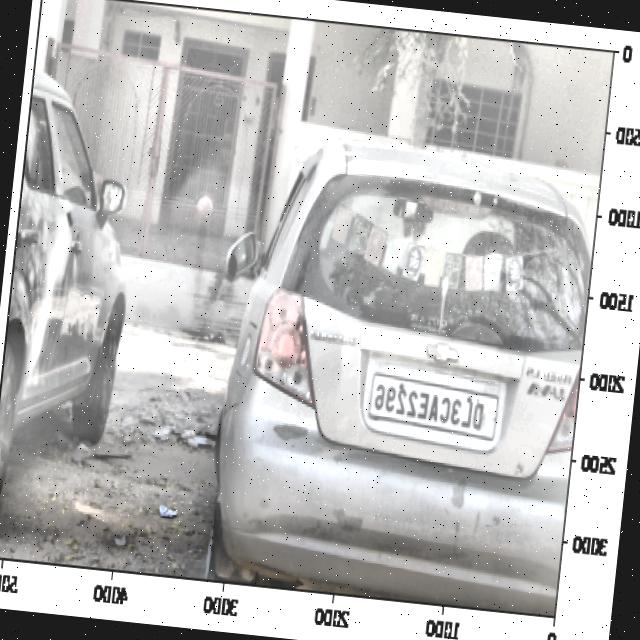license_plate: (365, 375, 488, 436)
